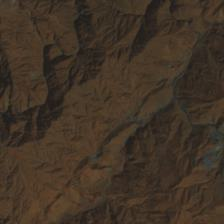landslides: (202, 144, 223, 160), (203, 157, 222, 166), (199, 164, 218, 171), (155, 95, 167, 106)
